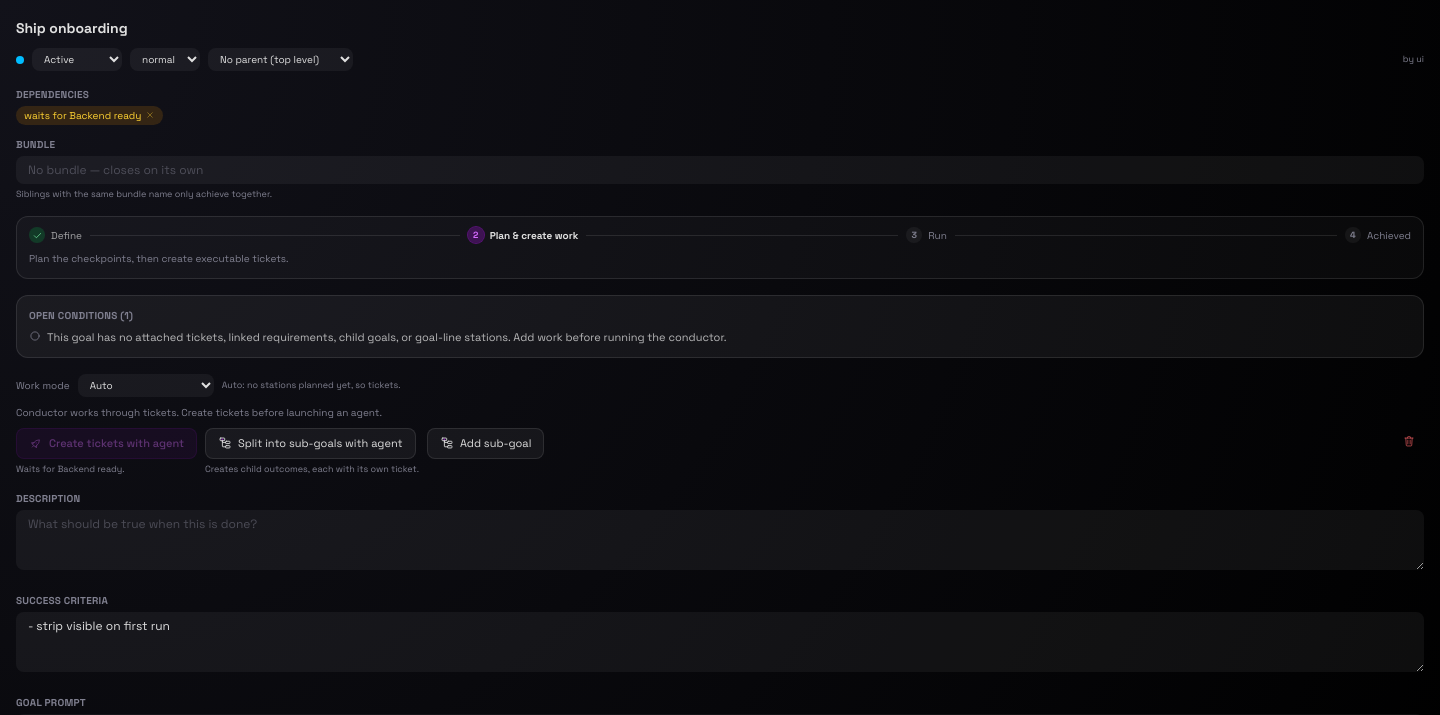
Test: GoalDetailPanel dependencies › shows a waits-for chip and removes it through the store
expect the element with test id "goal-depends-chip-g2" shows "Backend ready": met, box x1=69 y1=109 x2=141 y2=122
What coordinates should you click on to do the following:
click the button with test id "goal-depends-unlink-g2"
I would click on:
 (150, 116)
Its box is x1=145 y1=108 x2=155 y2=123.
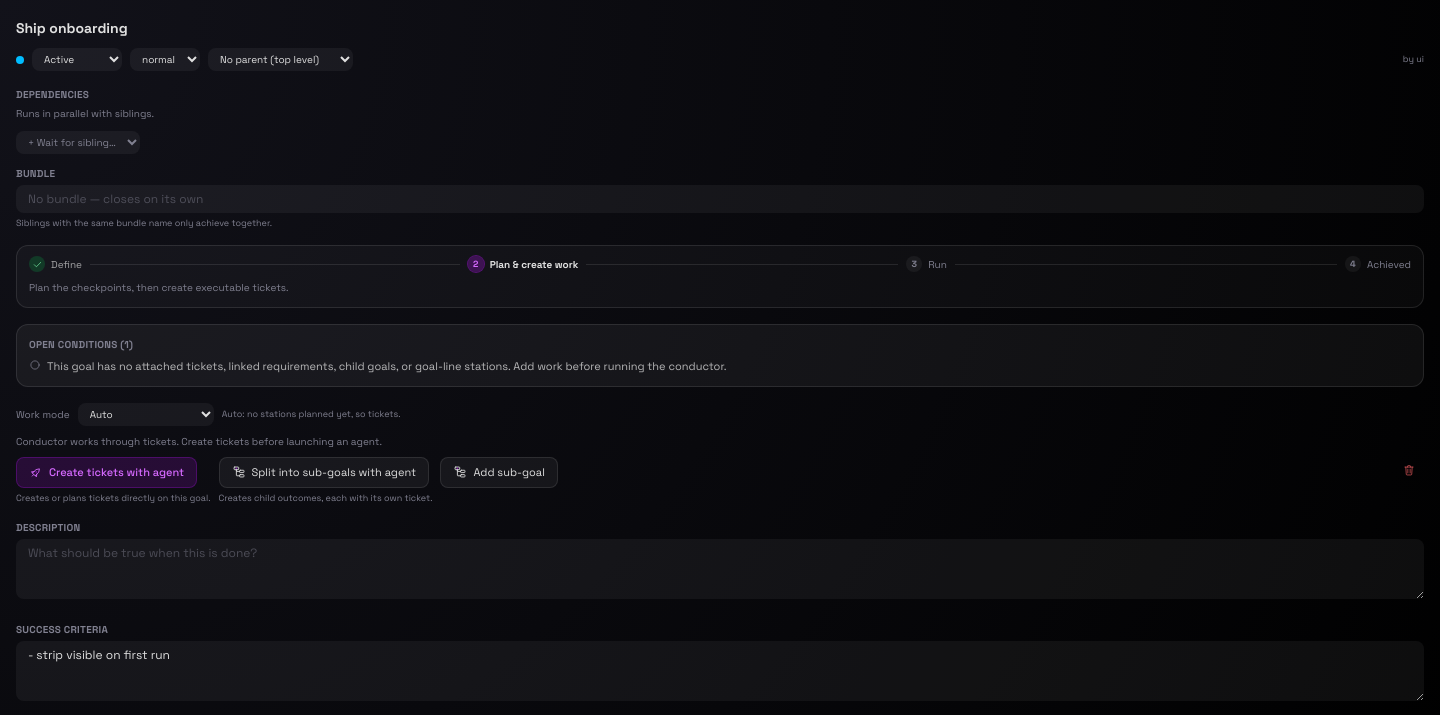
expect the element with test id "goal-depends-chip-g2" is gone: met
